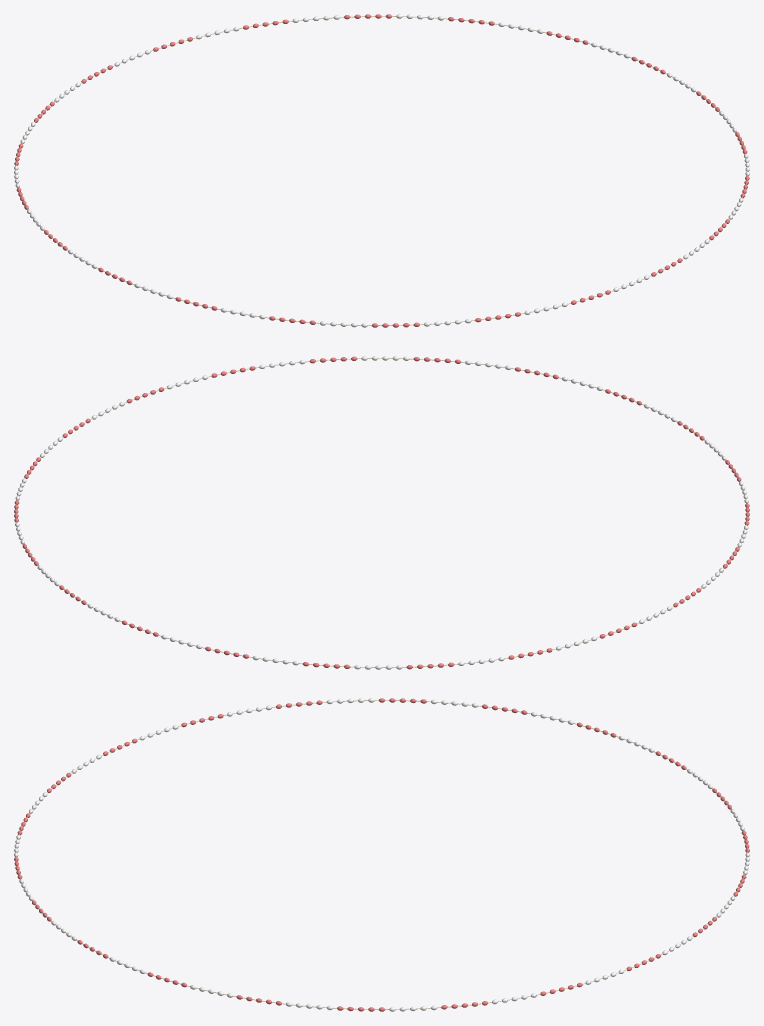
File: BumperFloatLine.glb
3 renders of one model, top to bottom at view 1: azimuth 30°, elevation 25°; view 2: azimuth 150°, elevation 25°; view 3: azimuth 270°, elevation 25°, orthographic.
Visible parts, largest first — view 1: FloatRed, FloatWhite, Rope; view 2: FloatWhite, FloatRed, Rope; view 3: FloatRed, FloatWhite, Rope.
Part boxes in pixels (x1,y1,x2,y2): FloatRed: (14,14,749,327); FloatWhite: (14,14,749,327); Rope: (16,16,747,325); FloatWhite: (15,356,748,669); FloatRed: (14,356,749,669); Rope: (16,358,747,667); FloatRed: (14,698,749,1011); FloatWhite: (14,698,749,1011); Rope: (16,700,747,1009).
Size of the model in its own units: 141 by 0.855 by 141.
